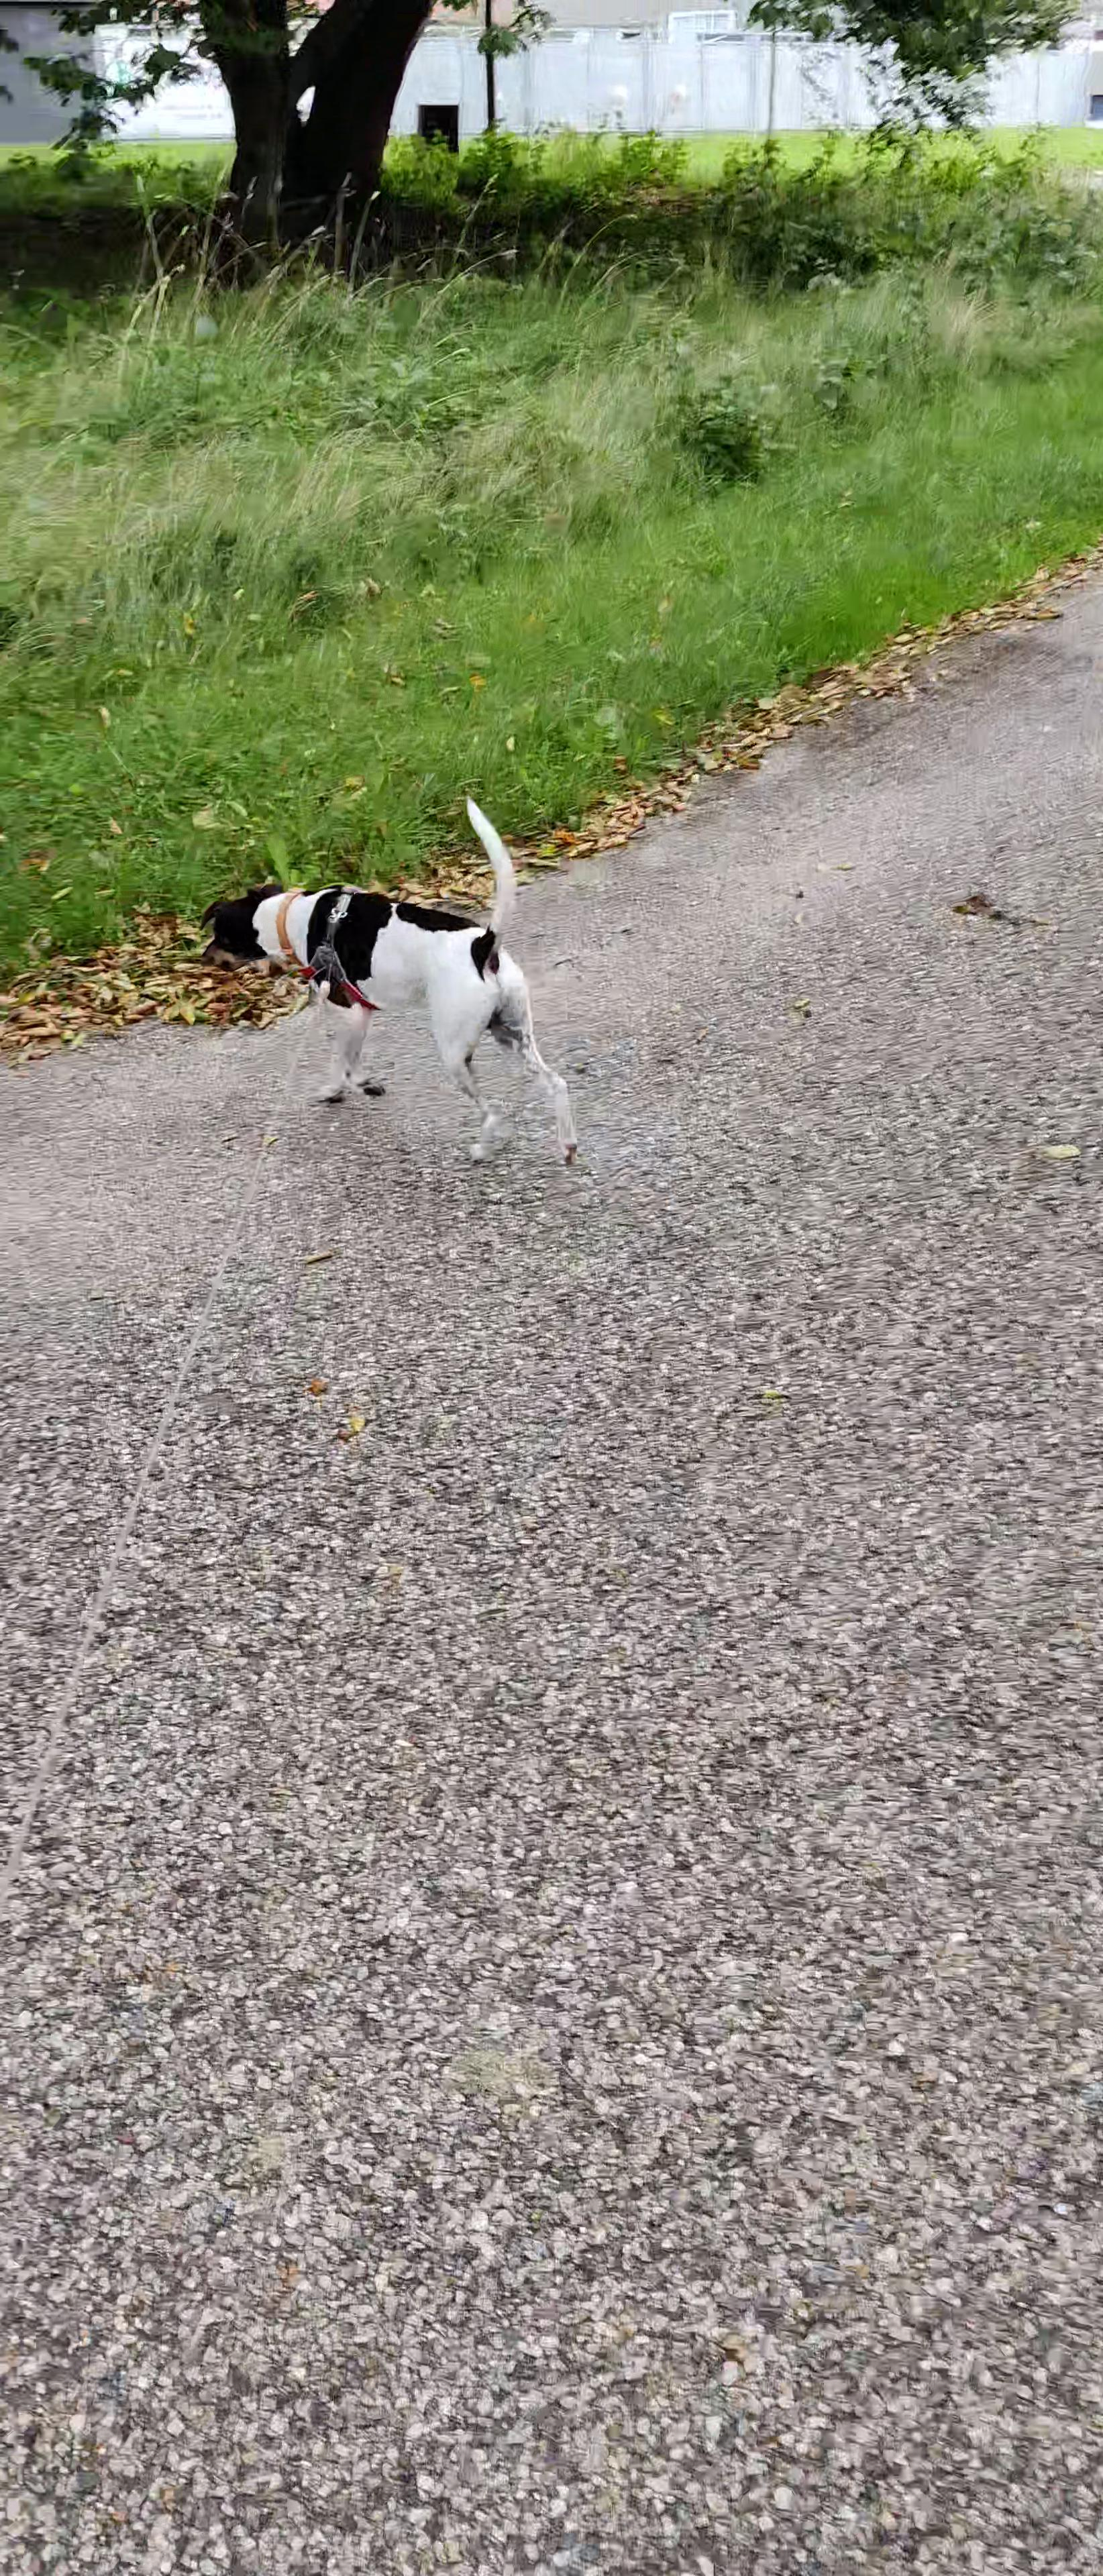Dog: (187, 787, 605, 1181)
